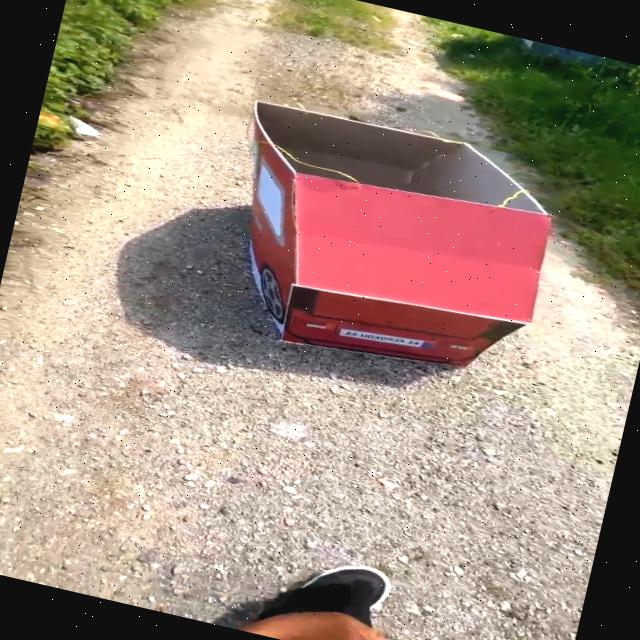red_car: (172, 67, 610, 417)
